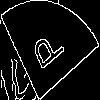P: (25, 25, 66, 78)
